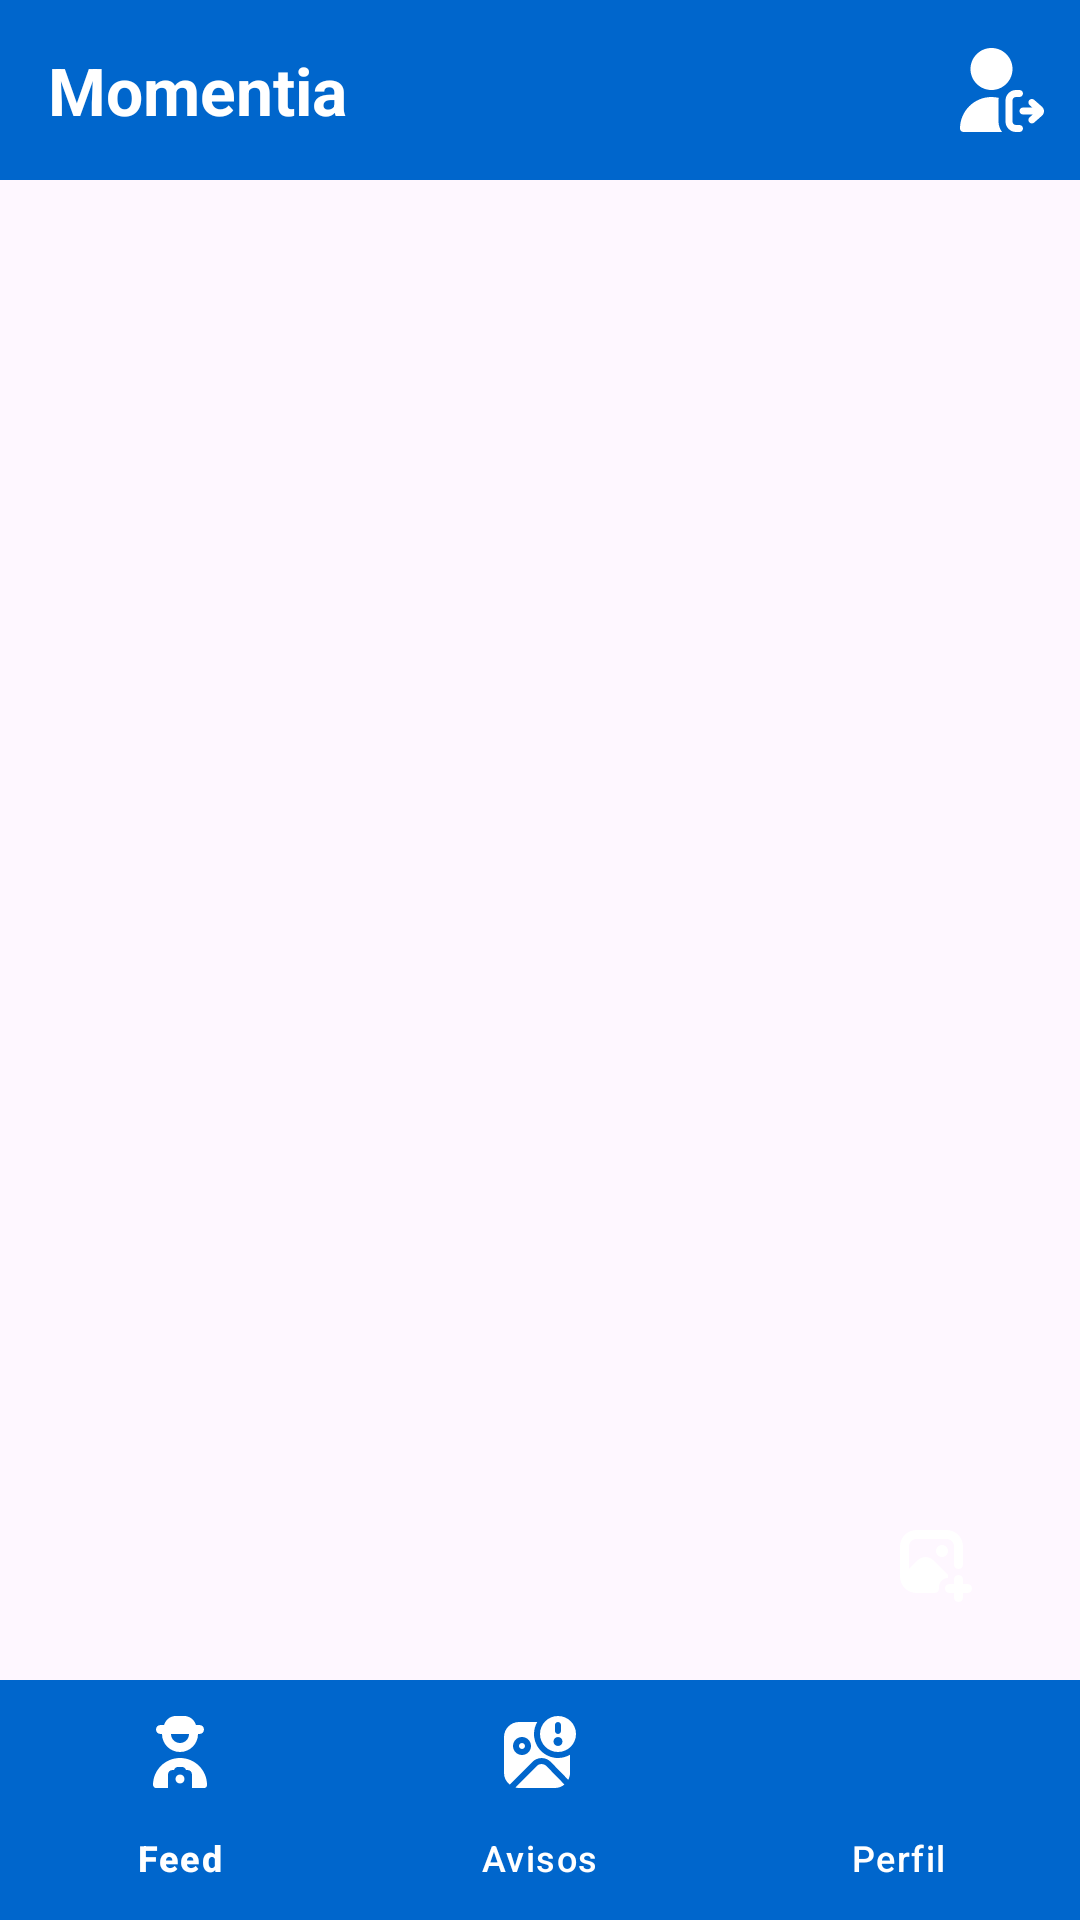

Point at icon controls on the screen. Image size 1080x1920, points as point (x, y).
cierre de sesion usuario: point (1002, 90)
